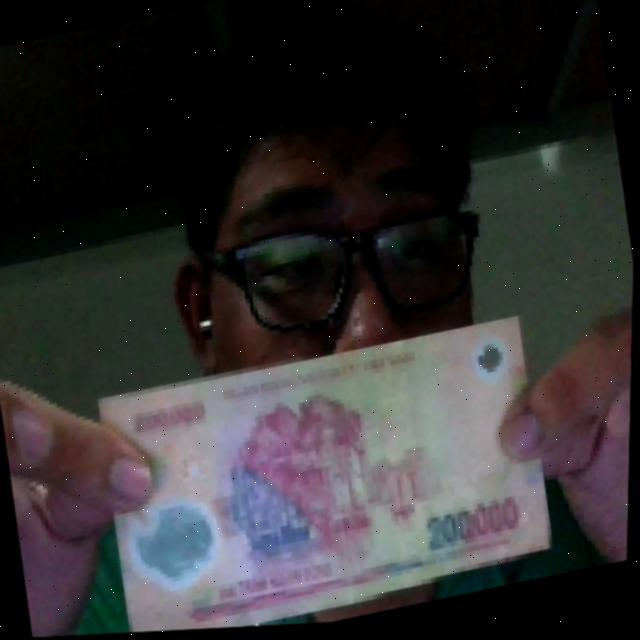200 000 VND: (87, 305, 566, 636)
